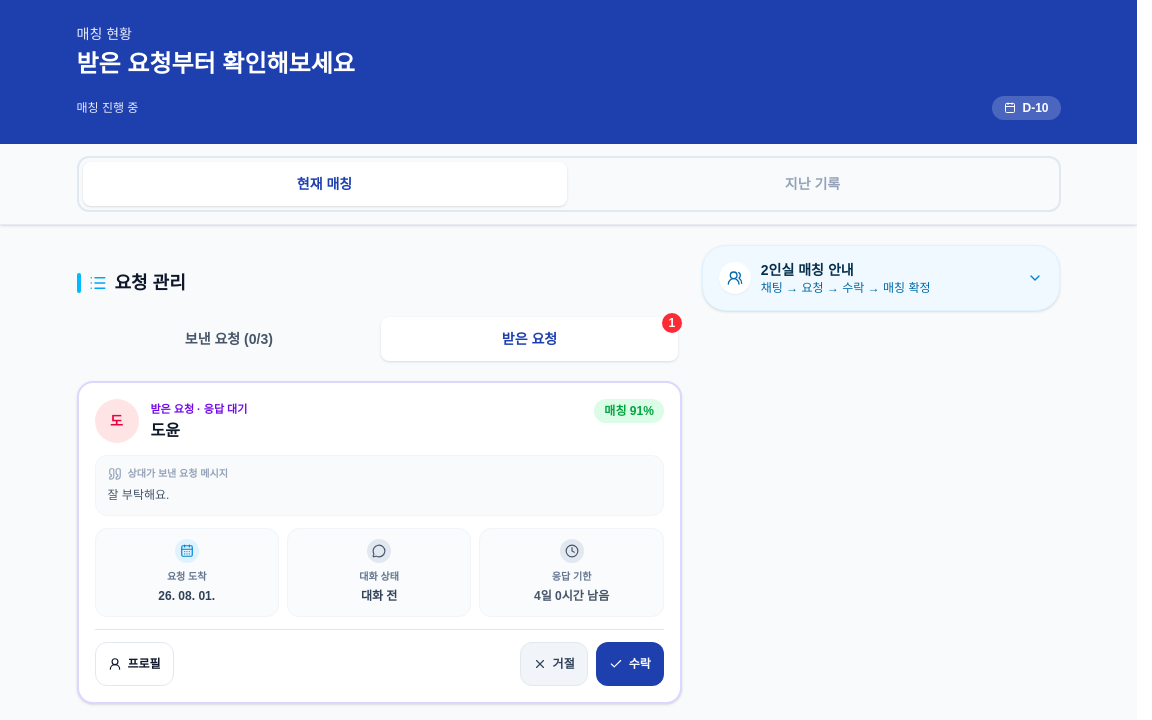
Test: MatchingTab canonical runtime › request summary 이후 상대가 시즌 참여를 철회하면 tombstone detail로 degrade한다
Click the button named "도윤 프로필 상세 보기" at (134, 664), box [94,642,174,686]
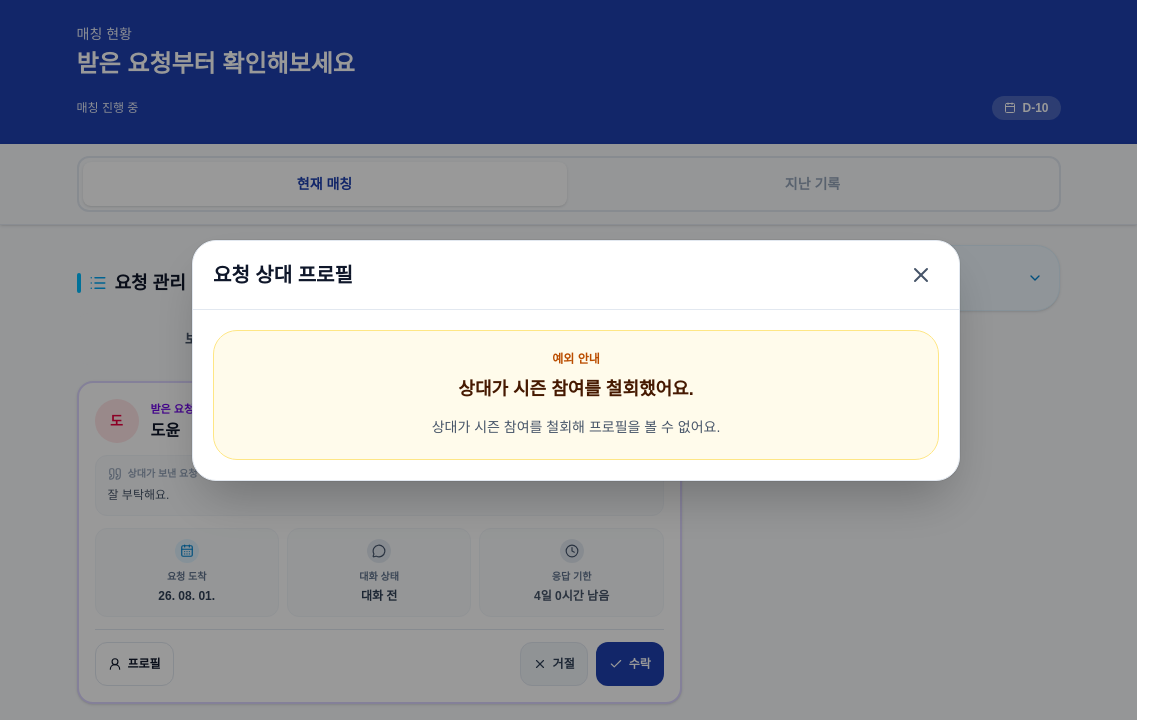
Check: the heading "상대가 시즌 참여를 철회했어요." is shown, box [458,378,694,398]
Check: the text "상대가 시즌 참여를 철회해 프로필을 볼 수 없어요." is shown, box [432,418,720,434]
